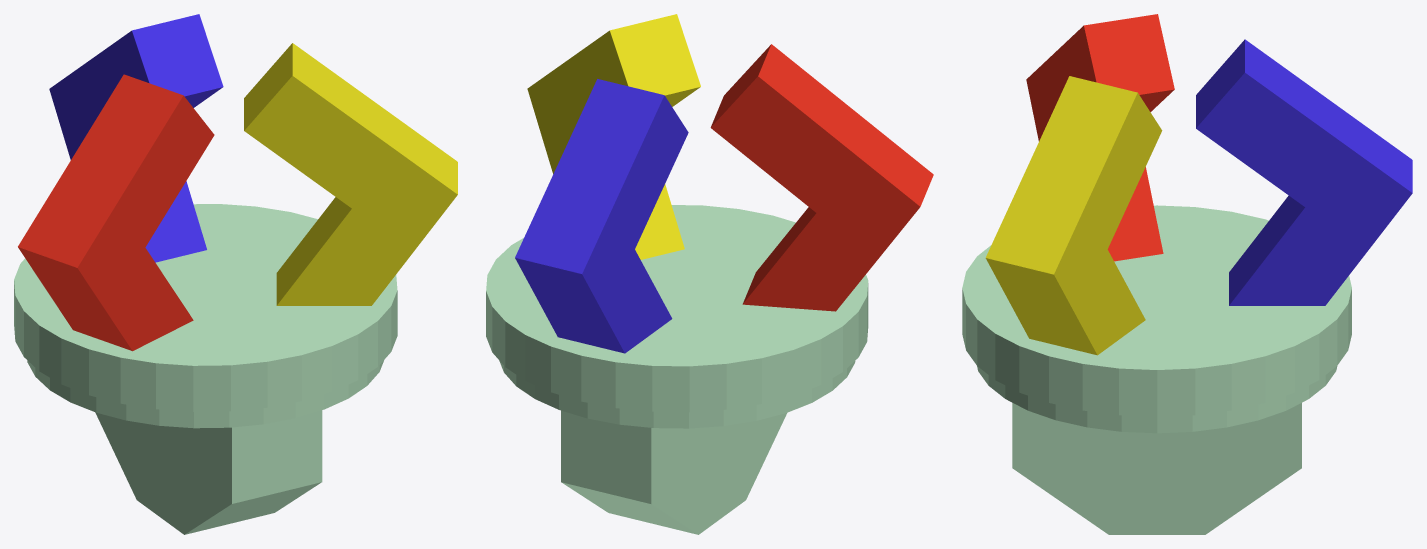
The model's file is claw.glb.
3 renders of one model, left to right at view 1: azimuth 30°, elevation 25°; view 2: azimuth 150°, elevation 25°; view 3: azimuth 270°, elevation 25°, orthographic.
Parts seen in each view (by area): view 1: Cylinder.003; view 2: Cylinder.003; view 3: Cylinder.003.
Part boxes in pixels (x1,y1,x2,y2): Cylinder.003: (14, 14, 457, 534); Cylinder.003: (486, 14, 933, 534); Cylinder.003: (962, 14, 1412, 534).
Size of the model in its own units: 11.05 by 11.43 by 10.18.
